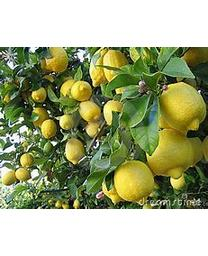lemon: (146, 126, 195, 180), (160, 84, 207, 137), (114, 162, 156, 205), (90, 51, 108, 83), (79, 100, 102, 125), (65, 137, 85, 165), (45, 48, 69, 71), (70, 82, 93, 102), (39, 119, 58, 138), (57, 112, 75, 130), (21, 153, 37, 170), (16, 165, 30, 180)
